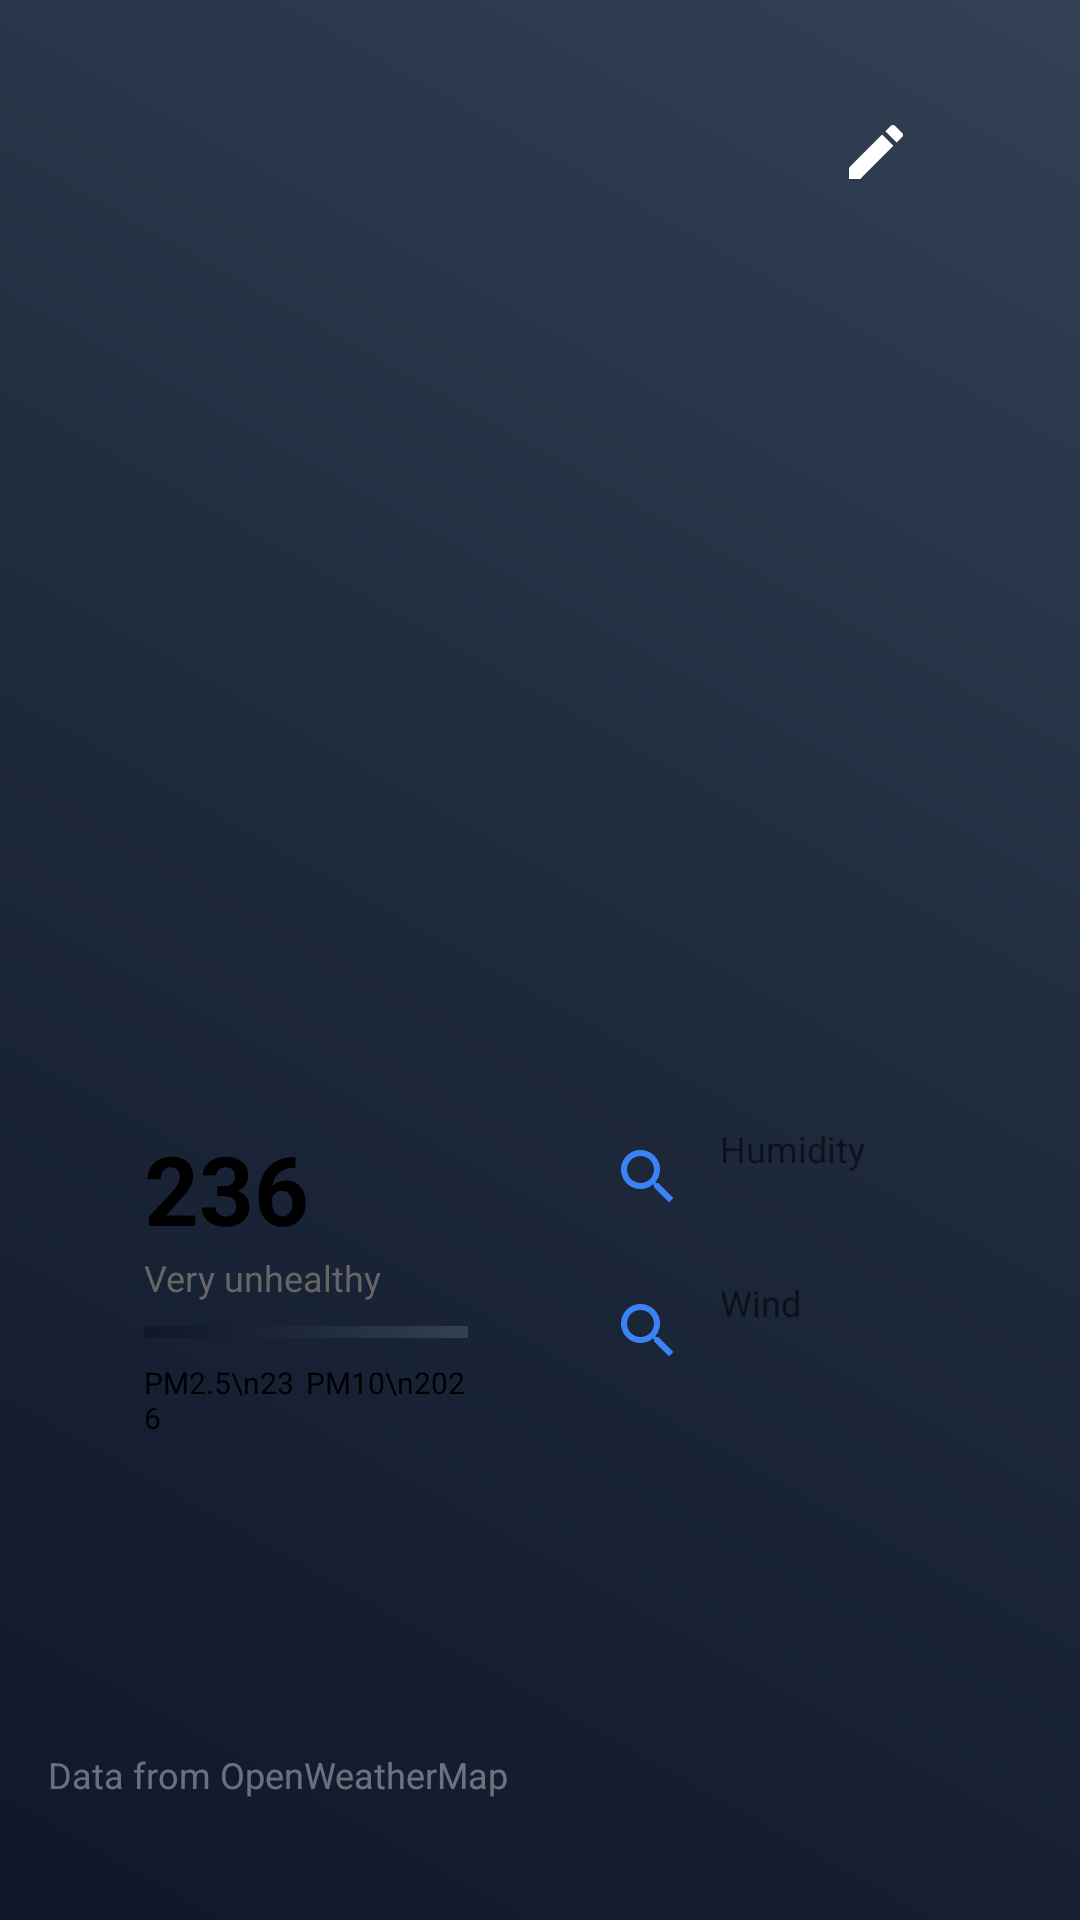

Where to tap for icons on this 1080px×1920px app screen, as (x=x, y=y):
edit: (x=876, y=152)
search: (x=647, y=1176), (x=647, y=1330)
